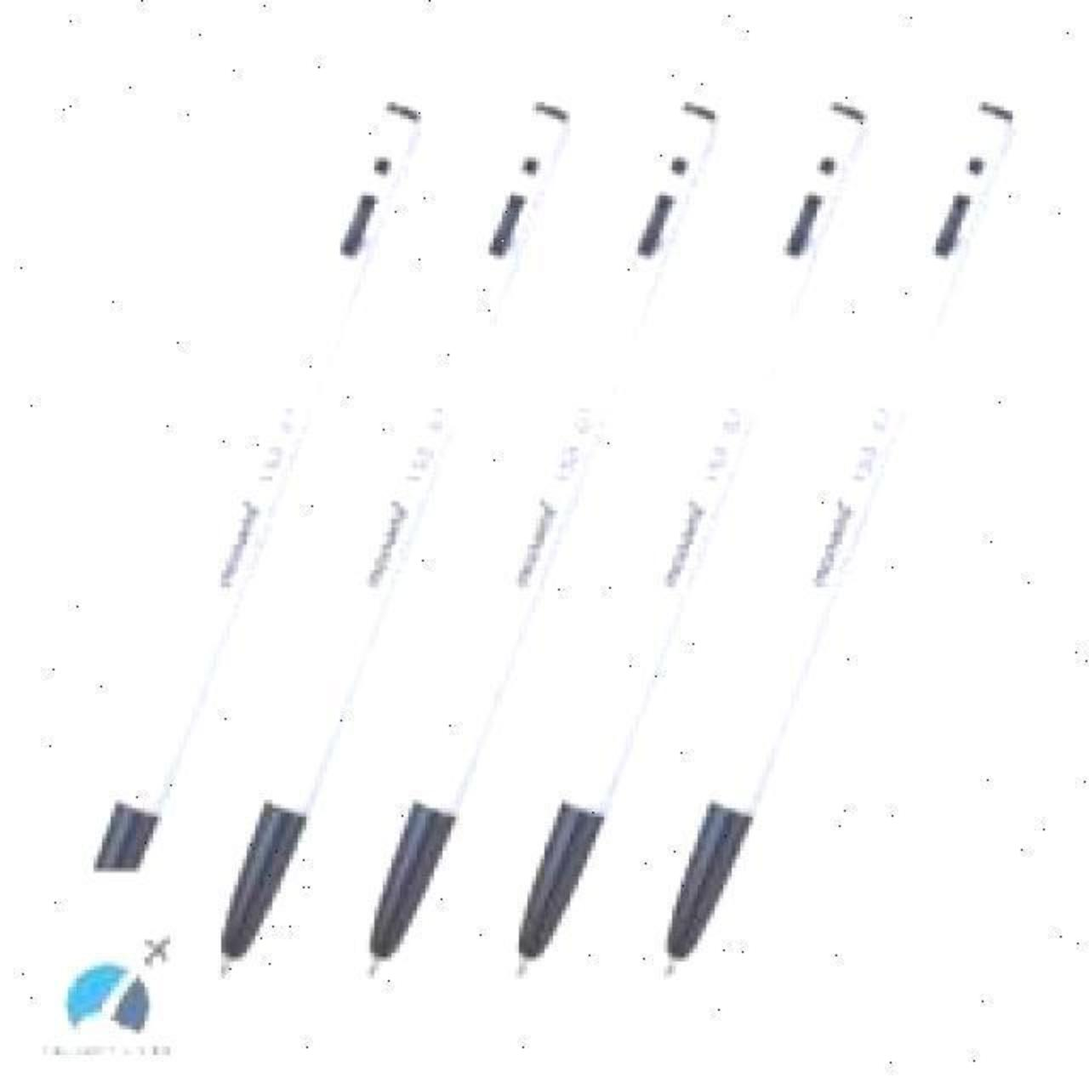pen: (349, 99, 728, 984), (660, 102, 1035, 984), (209, 107, 584, 980), (510, 102, 876, 984)
